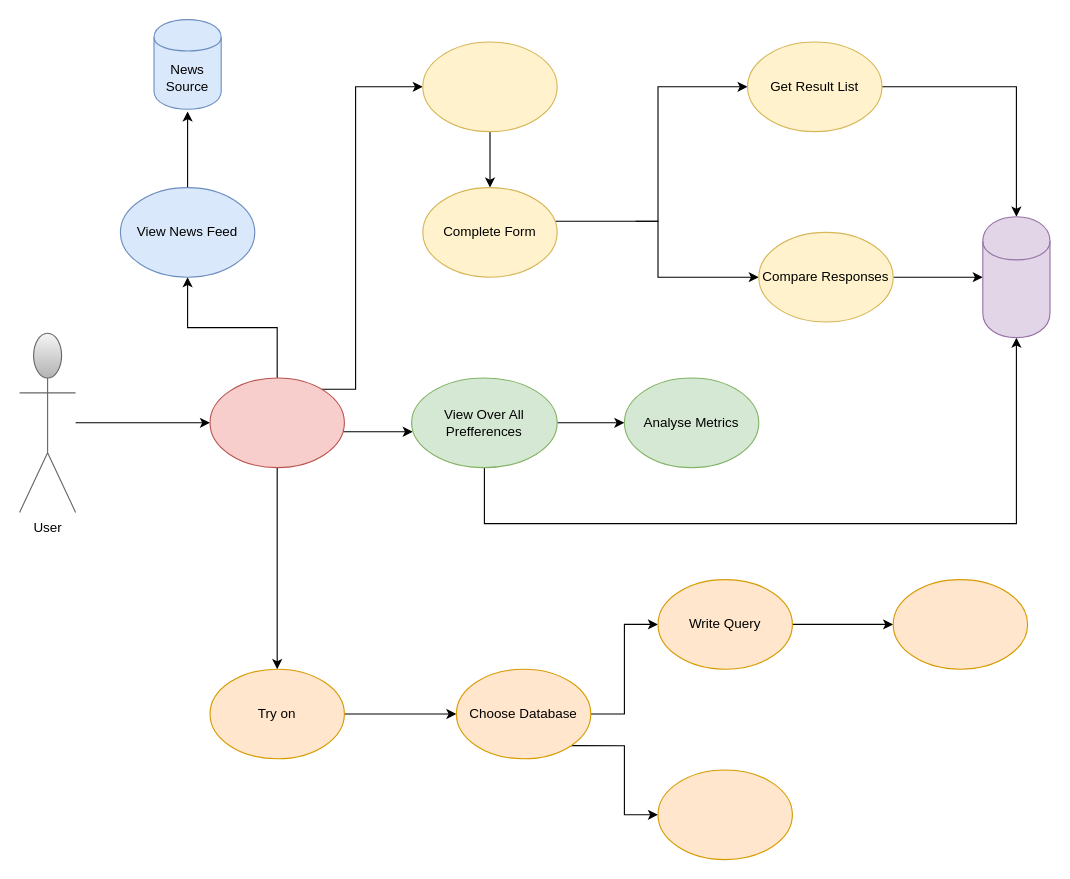
Some shapes in this 1070 by 879 pixel diagram are drawn without their labels. Each missing label, with the centre of its shape:
Analyse result: [960,623]
Auth: [276,422]
Data Source: [1016,277]
Search for Database Recommendation: [489,86]
View tutorial: [724,814]
